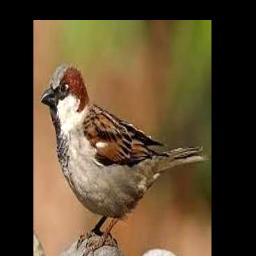Sparrow: (41, 64, 209, 256)
